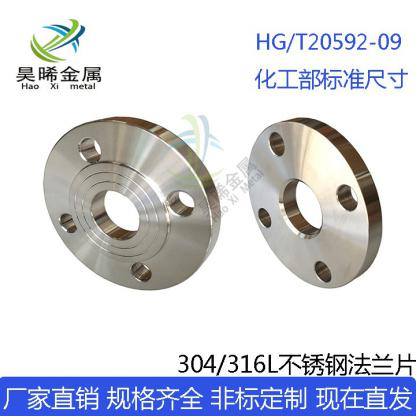FOD: (40, 112, 224, 293), (246, 112, 384, 293)
